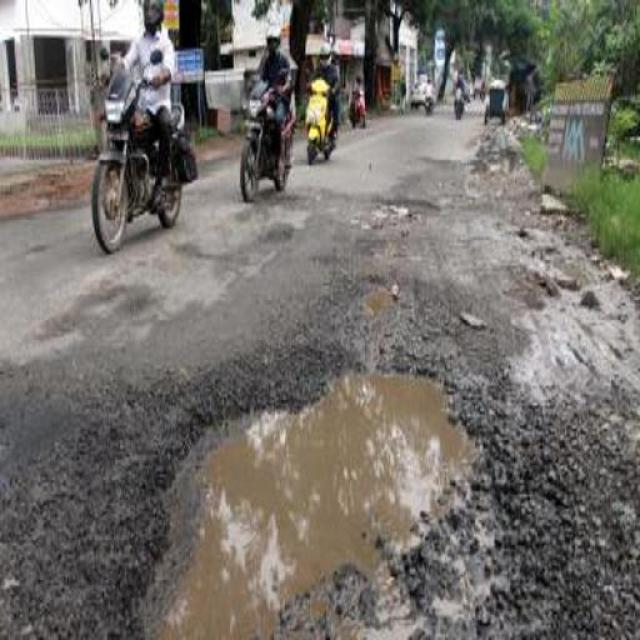puddle: (211, 419, 421, 577)
